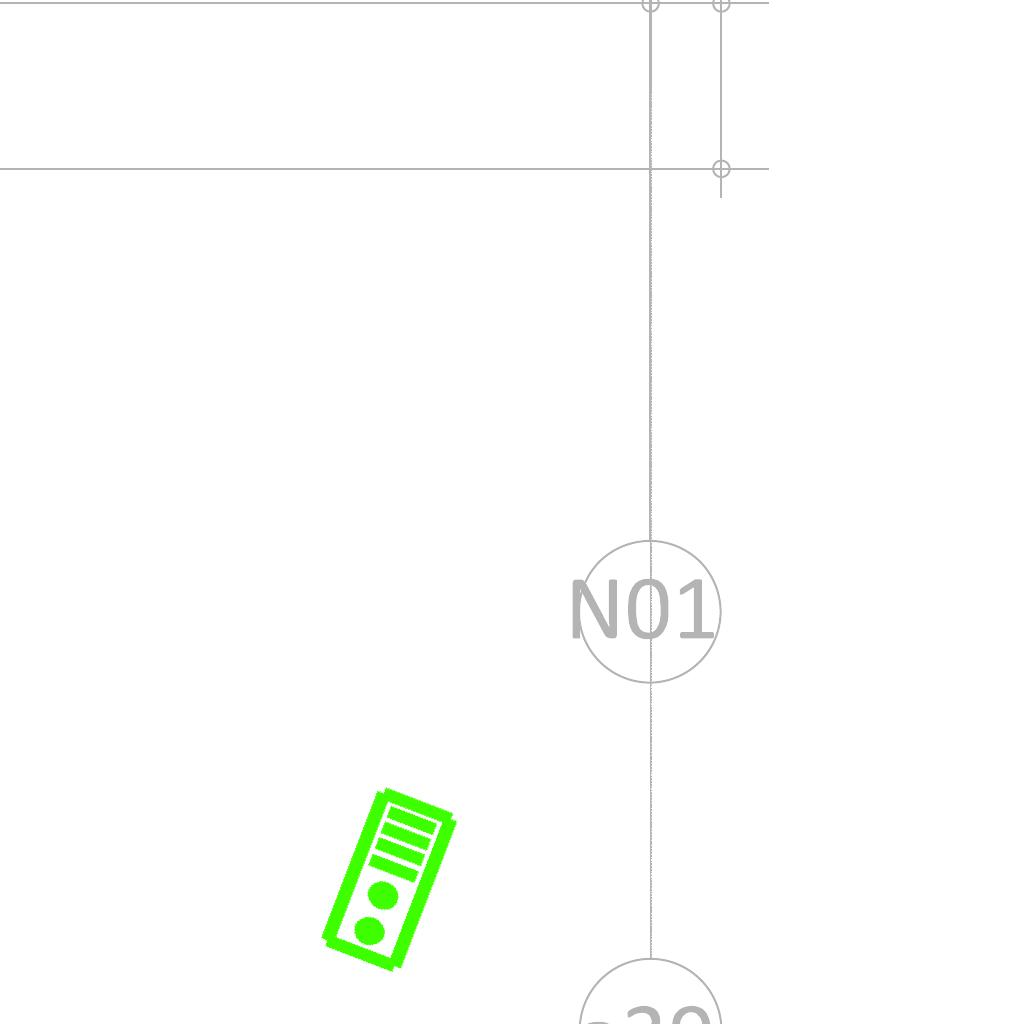Gegensprechanlage_mit_Video: (314, 781, 467, 981)
